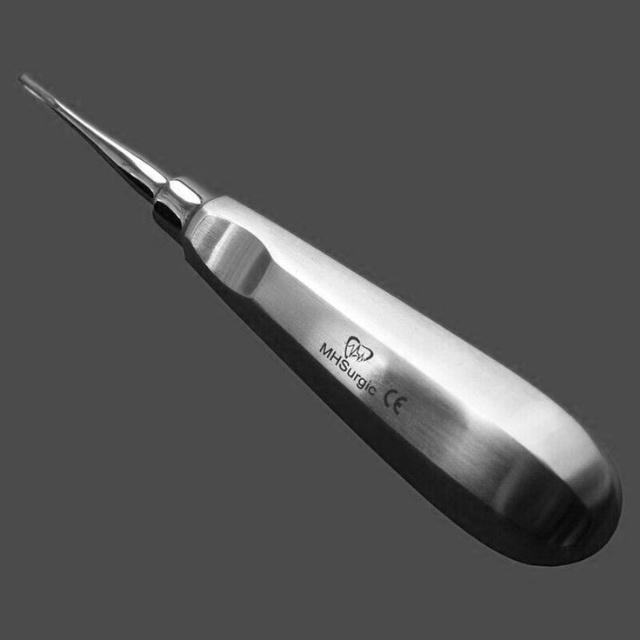botador: (19, 74, 625, 571)
